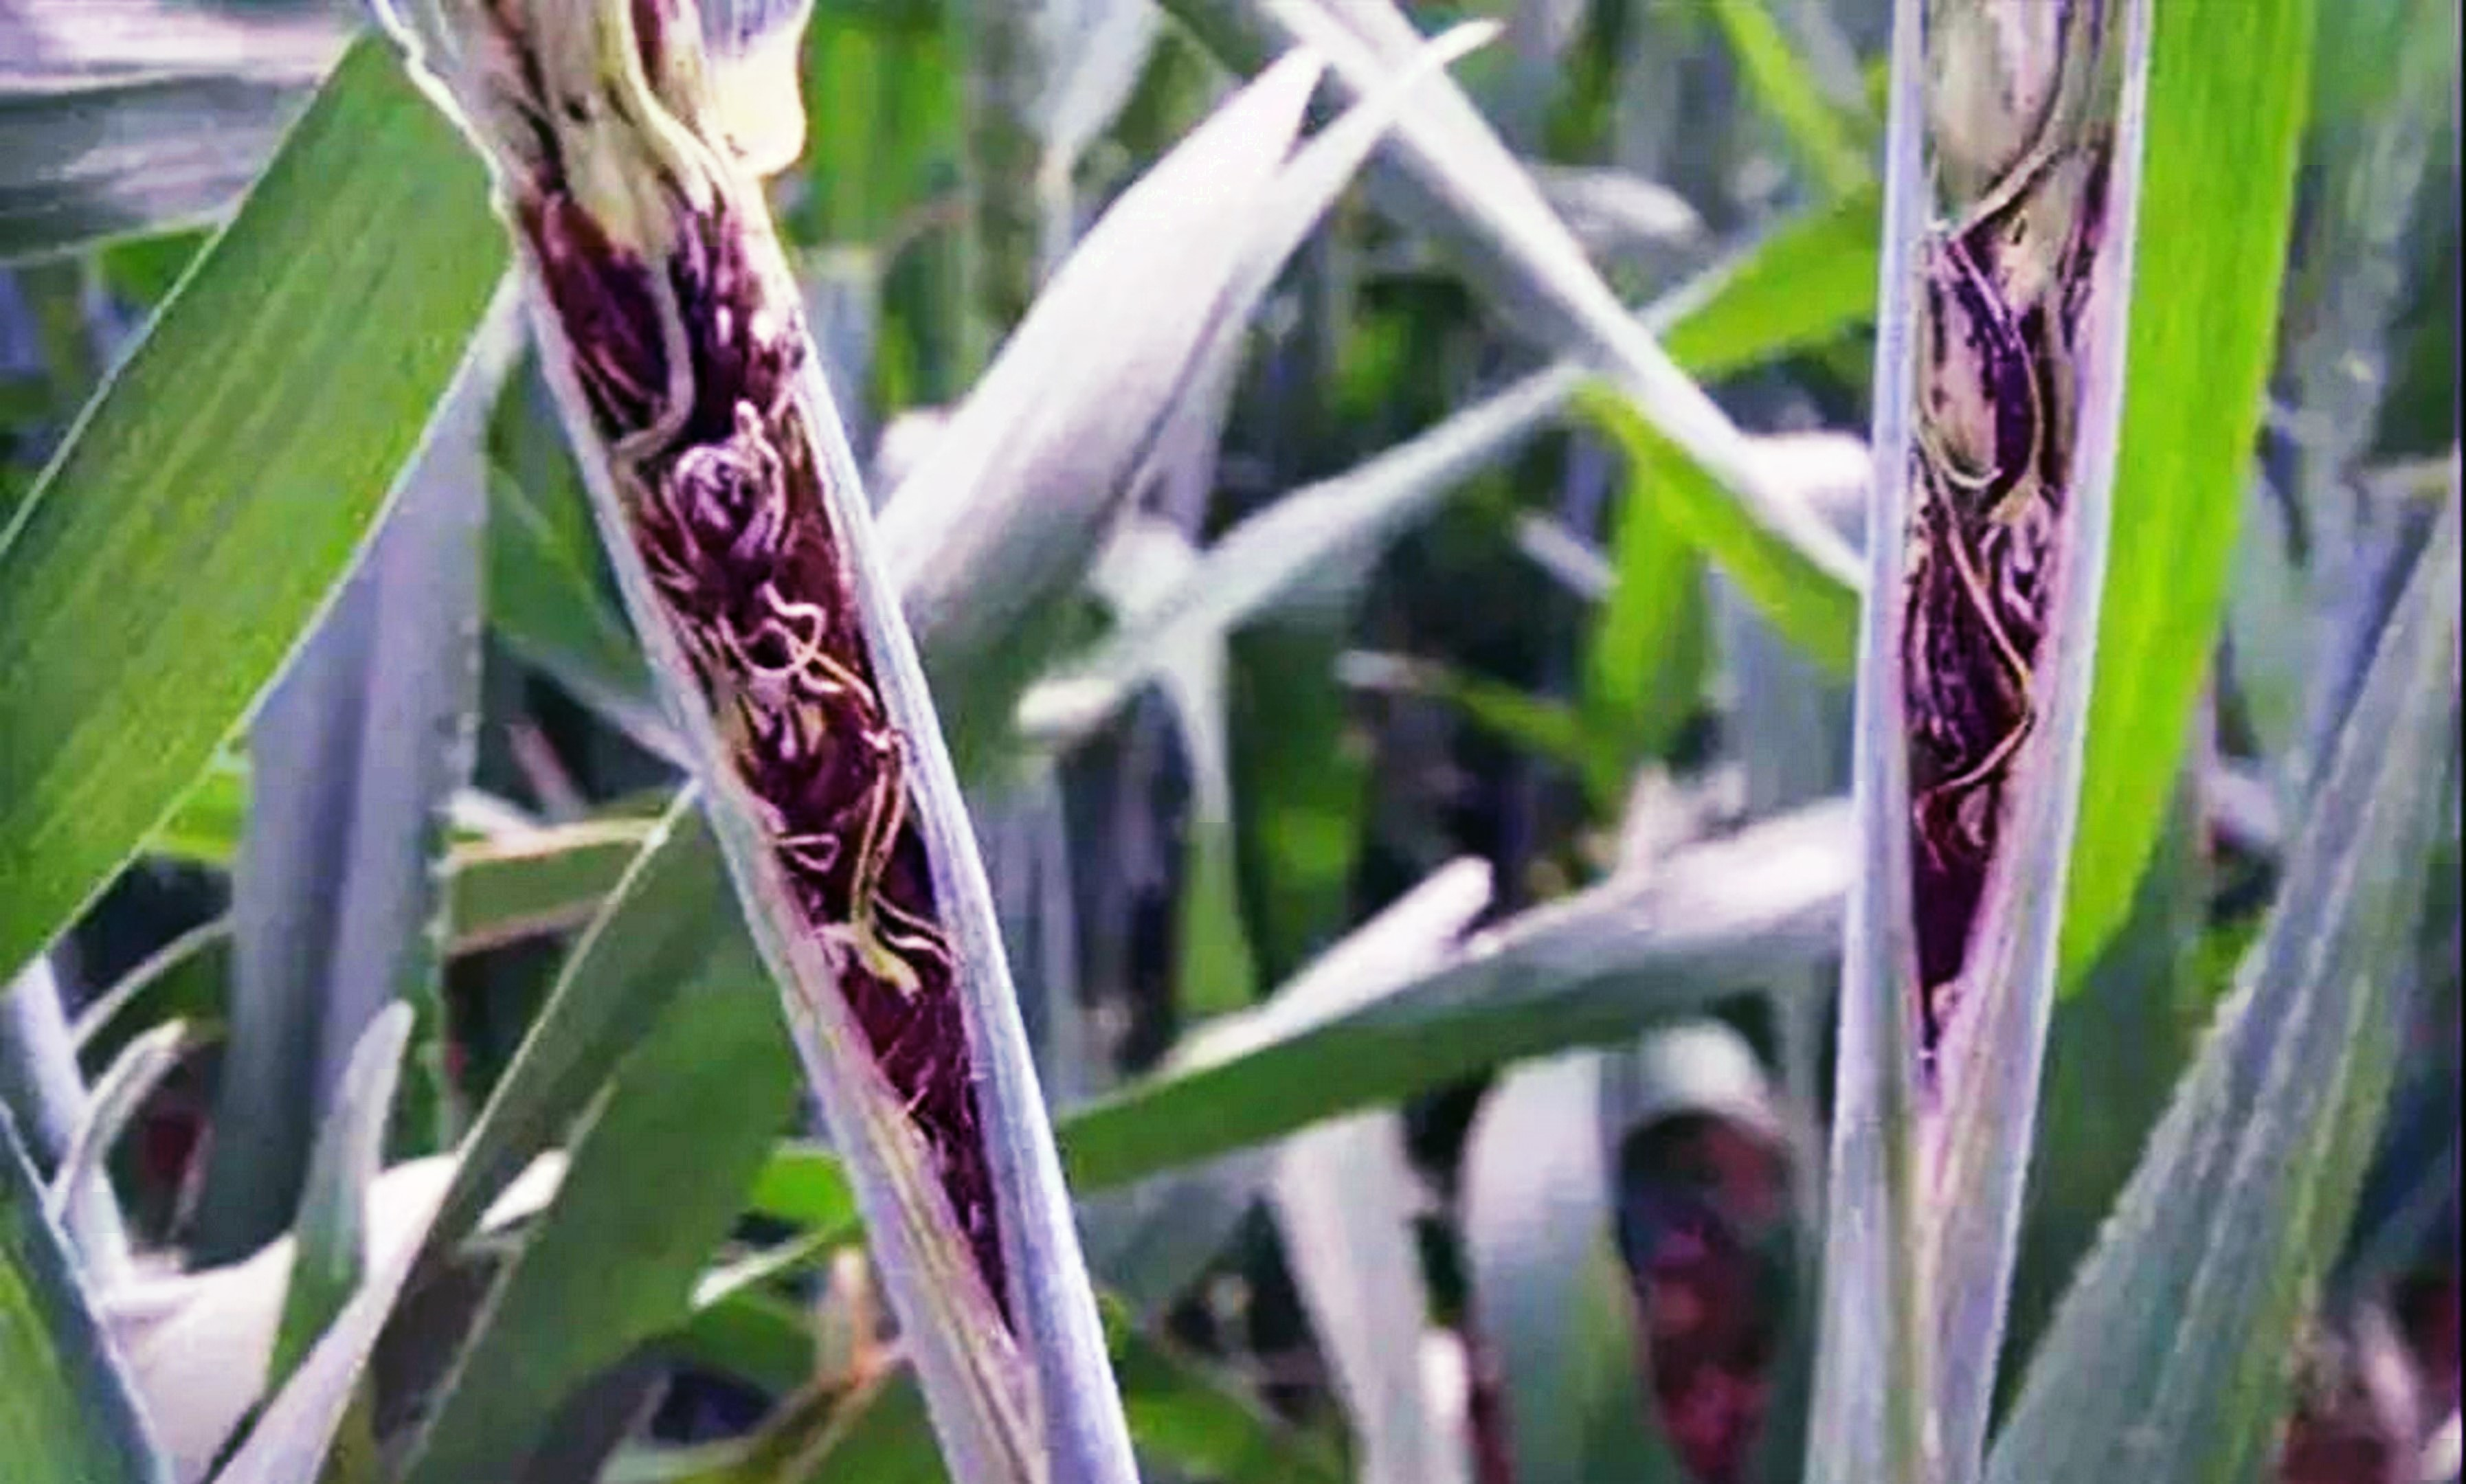Wheat Loose Smut: (541, 185, 1029, 1186)
